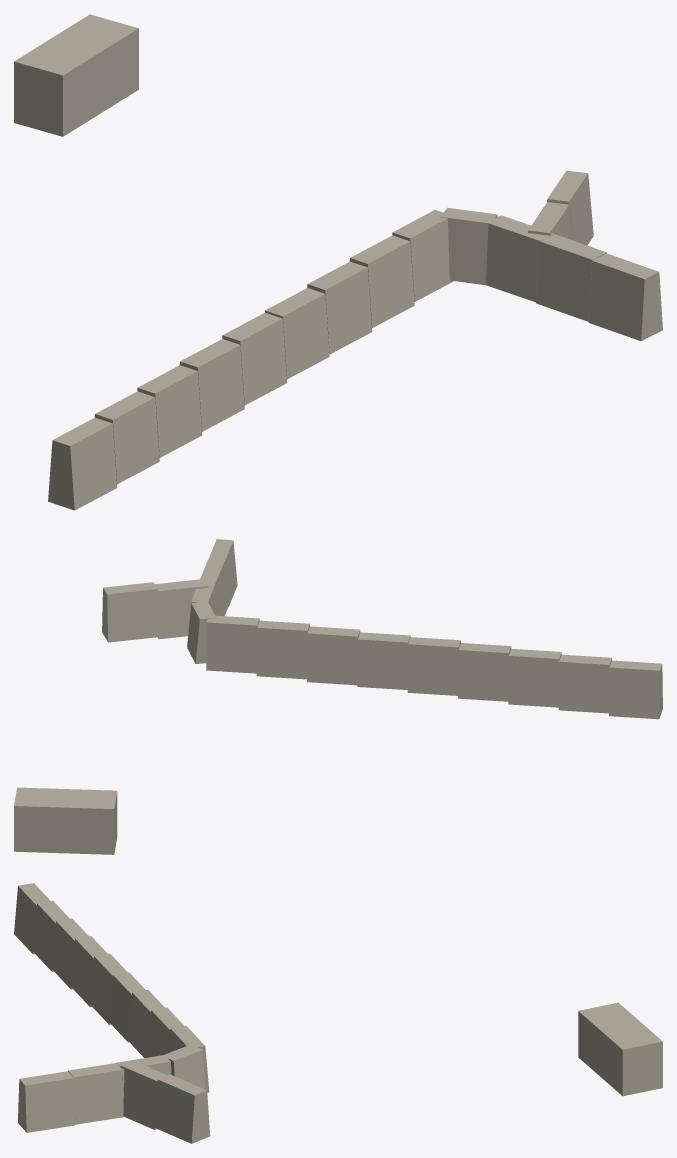
File: bormla_62_32_far.glb
3 views of the same model, one above another, from view 1: azimuth 30°, elevation 25°; view 2: azimuth 150°, elevation 25°; view 3: azimuth 270°, elevation 25° (orthographic). The views are drawn at different scales.
Parts seen in each view (by area): view 1: geometry_0; view 2: geometry_0; view 3: geometry_0.
Boxes of the visible parts, <box> form: geometry_0: <box>14,14,662,510</box>; geometry_0: <box>14,539,662,854</box>; geometry_0: <box>14,883,662,1143</box>.
Bounding box in the file's own units: 131 × 18.54 × 150.
